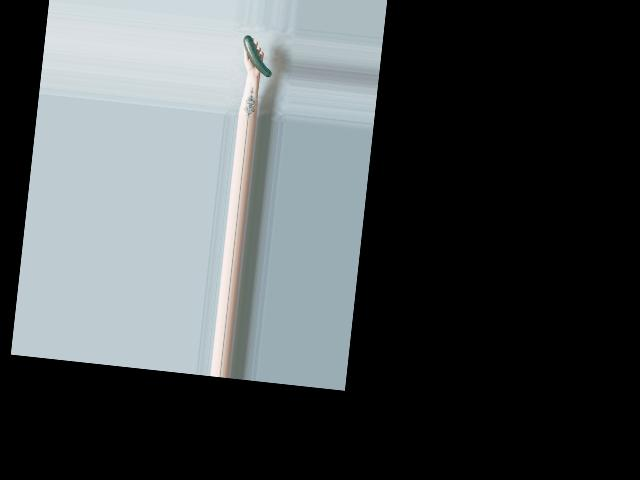cucumber: (240, 34, 275, 77)
